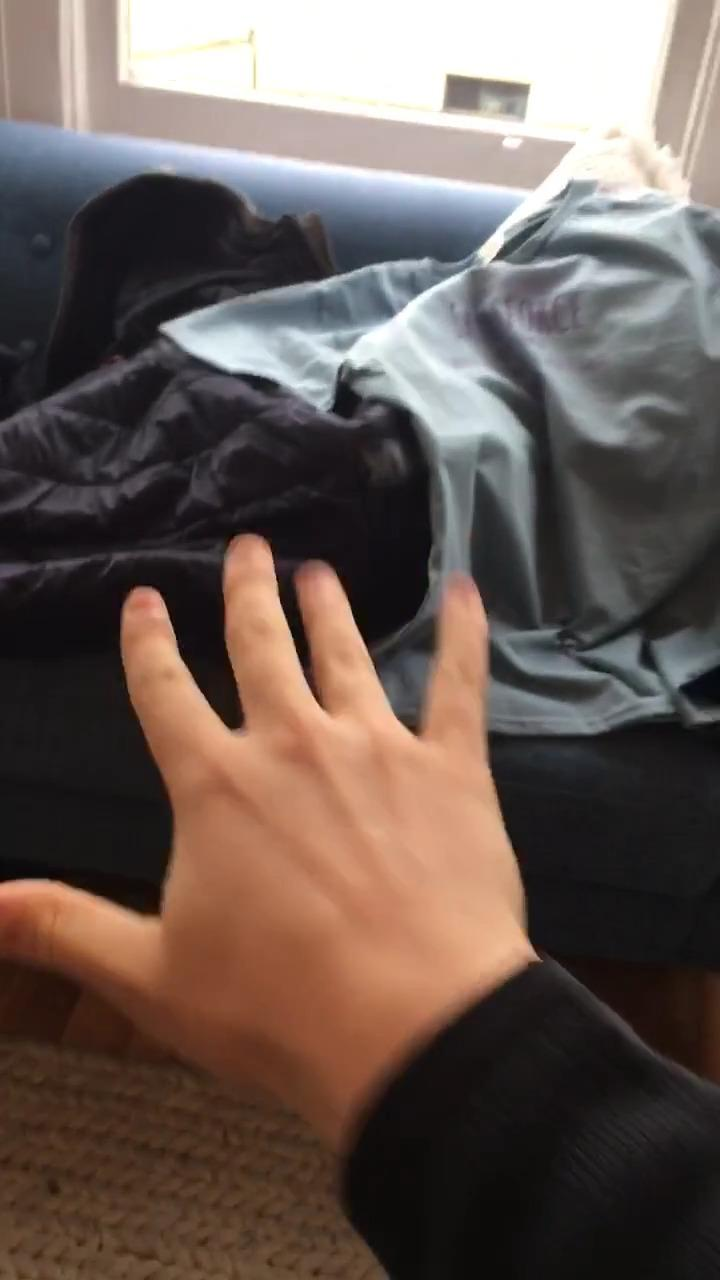Paper: (0, 531, 537, 1075)
